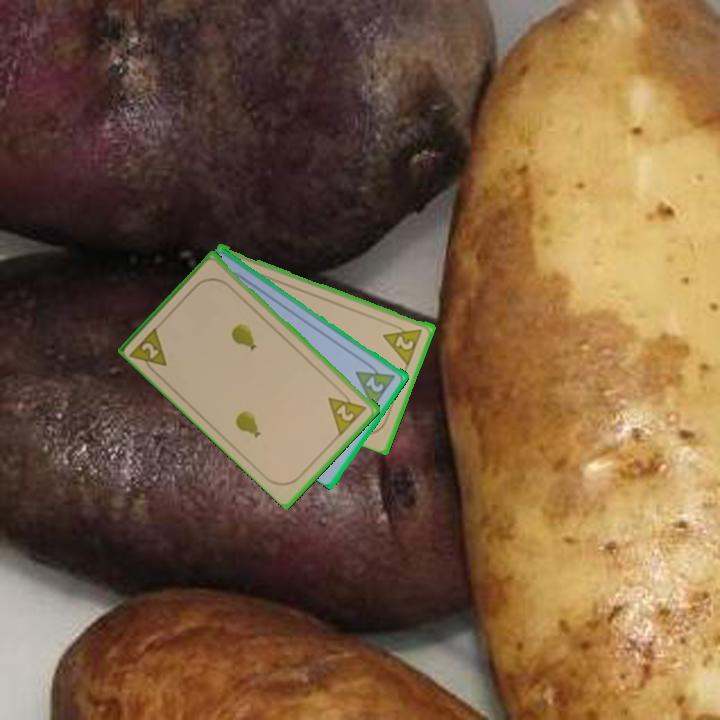2p: (127, 322, 171, 378), (352, 357, 399, 409), (325, 385, 370, 437), (380, 320, 426, 367)
